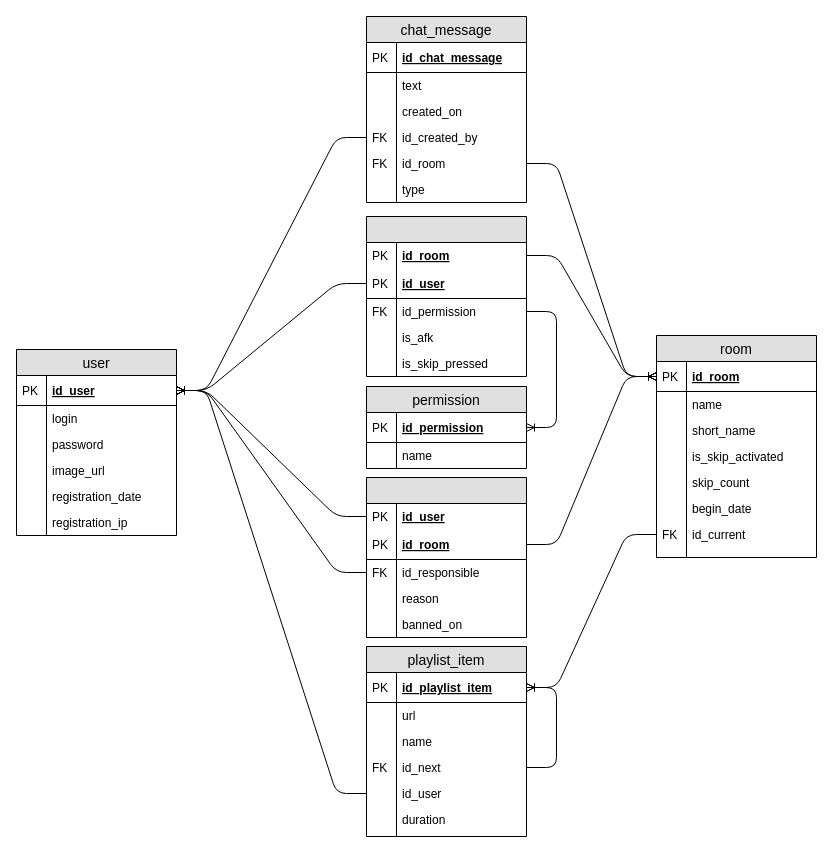
Image size: 833x853. Some labels were removed from this diagram. Here are the shapes that lost their labels. From the top down, the box of each, then its label:
(366, 216, 526, 376): room_x_user
(366, 476, 526, 638): ban_list
